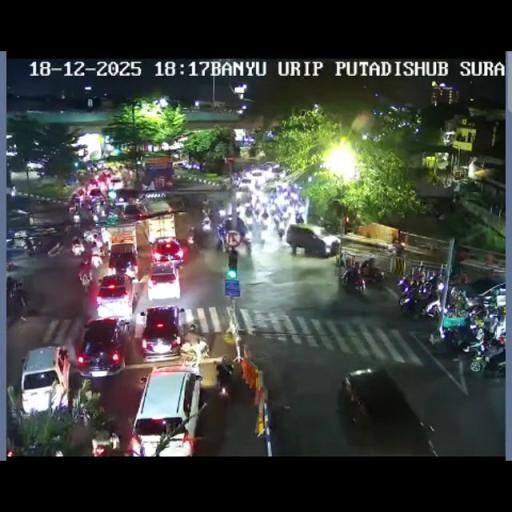Car: (336, 366, 435, 451), (129, 366, 201, 455), (18, 346, 69, 415), (76, 316, 130, 377), (139, 304, 185, 359), (286, 222, 340, 256), (95, 274, 135, 318), (146, 260, 182, 302), (107, 246, 139, 280), (150, 236, 185, 266), (112, 188, 145, 206), (122, 203, 146, 220), (266, 163, 285, 176), (109, 175, 124, 190), (239, 177, 256, 190), (88, 187, 103, 200), (26, 160, 44, 170), (172, 160, 188, 168)
Motorcycle: (398, 270, 442, 318), (440, 312, 483, 353), (182, 332, 214, 386), (263, 400, 294, 454), (268, 182, 304, 221), (480, 340, 506, 378), (7, 284, 27, 323), (342, 263, 366, 293), (467, 302, 488, 324), (216, 357, 234, 381), (78, 258, 92, 286), (448, 284, 468, 302), (25, 236, 44, 254), (450, 268, 468, 286), (410, 263, 426, 283), (90, 248, 103, 270), (88, 232, 103, 250), (238, 233, 252, 252), (387, 242, 405, 256), (334, 250, 346, 268), (218, 380, 229, 398), (70, 242, 84, 256), (216, 206, 228, 222), (360, 258, 372, 274), (262, 211, 273, 228), (94, 200, 105, 217), (201, 215, 211, 232), (70, 197, 80, 214), (344, 255, 354, 270), (187, 226, 195, 244), (6, 234, 15, 248), (277, 224, 285, 239), (232, 175, 241, 188), (72, 211, 81, 224), (220, 180, 229, 192), (216, 236, 223, 251), (295, 212, 304, 223), (244, 206, 252, 218), (202, 205, 210, 216), (92, 212, 98, 223)
